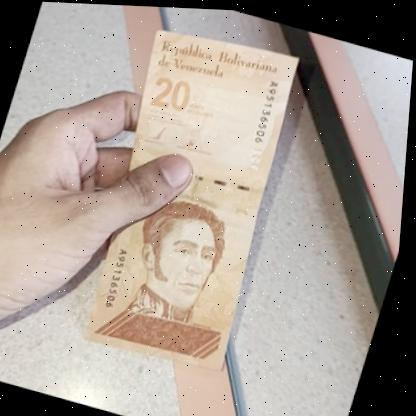twenty-front-vef: (66, 15, 317, 379)
